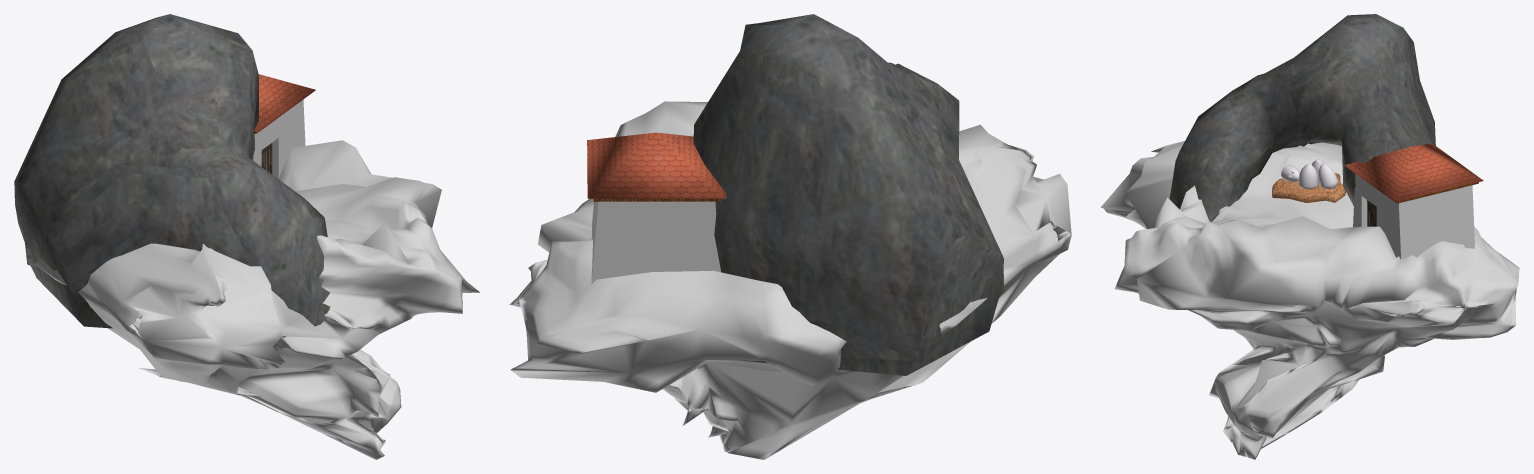
File: gryphon.fbx
3 renders of one model, left to right at view 1: azimuth 30°, elevation 25°; view 2: azimuth 150°, elevation 25°; view 3: azimuth 270°, elevation 25°, orthographic. The views are drawn at different scales.
Visible parts, largest first — view 1: cave, Rock_4, Estructura caseta, TechoCaseta; view 2: cave, Rock_4, Estructura caseta, TechoCaseta; view 3: Rock_4, cave, Estructura caseta, TechoCaseta, Nest, Eggs.
Boxes of the visible parts, left/top/right/bottom form: cave: left=14, top=14, right=330, bottom=337; Rock_4: left=34, top=140, right=479, bottom=459; Estructura caseta: left=252, top=99, right=305, bottom=178; TechoCaseta: left=254, top=74, right=315, bottom=132; cave: left=693, top=14, right=1003, bottom=375; Rock_4: left=509, top=101, right=1071, bottom=459; Estructura caseta: left=591, top=201, right=720, bottom=284; TechoCaseta: left=587, top=132, right=726, bottom=198; Rock_4: left=1100, top=141, right=1519, bottom=459; cave: left=1169, top=14, right=1435, bottom=222; Estructura caseta: left=1353, top=174, right=1474, bottom=259; TechoCaseta: left=1344, top=143, right=1483, bottom=202; Nest: left=1272, top=173, right=1345, bottom=202; Eggs: left=1281, top=159, right=1338, bottom=189.
Size of the model in its own units: 1397 by 1611 by 1625.
